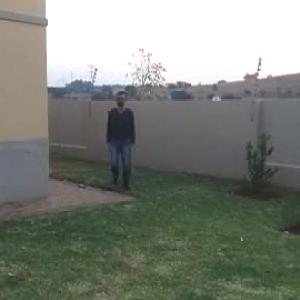follow: (103, 88, 140, 201)
